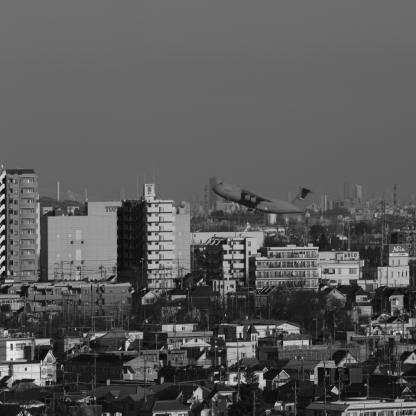C5: (213, 183, 316, 216)
